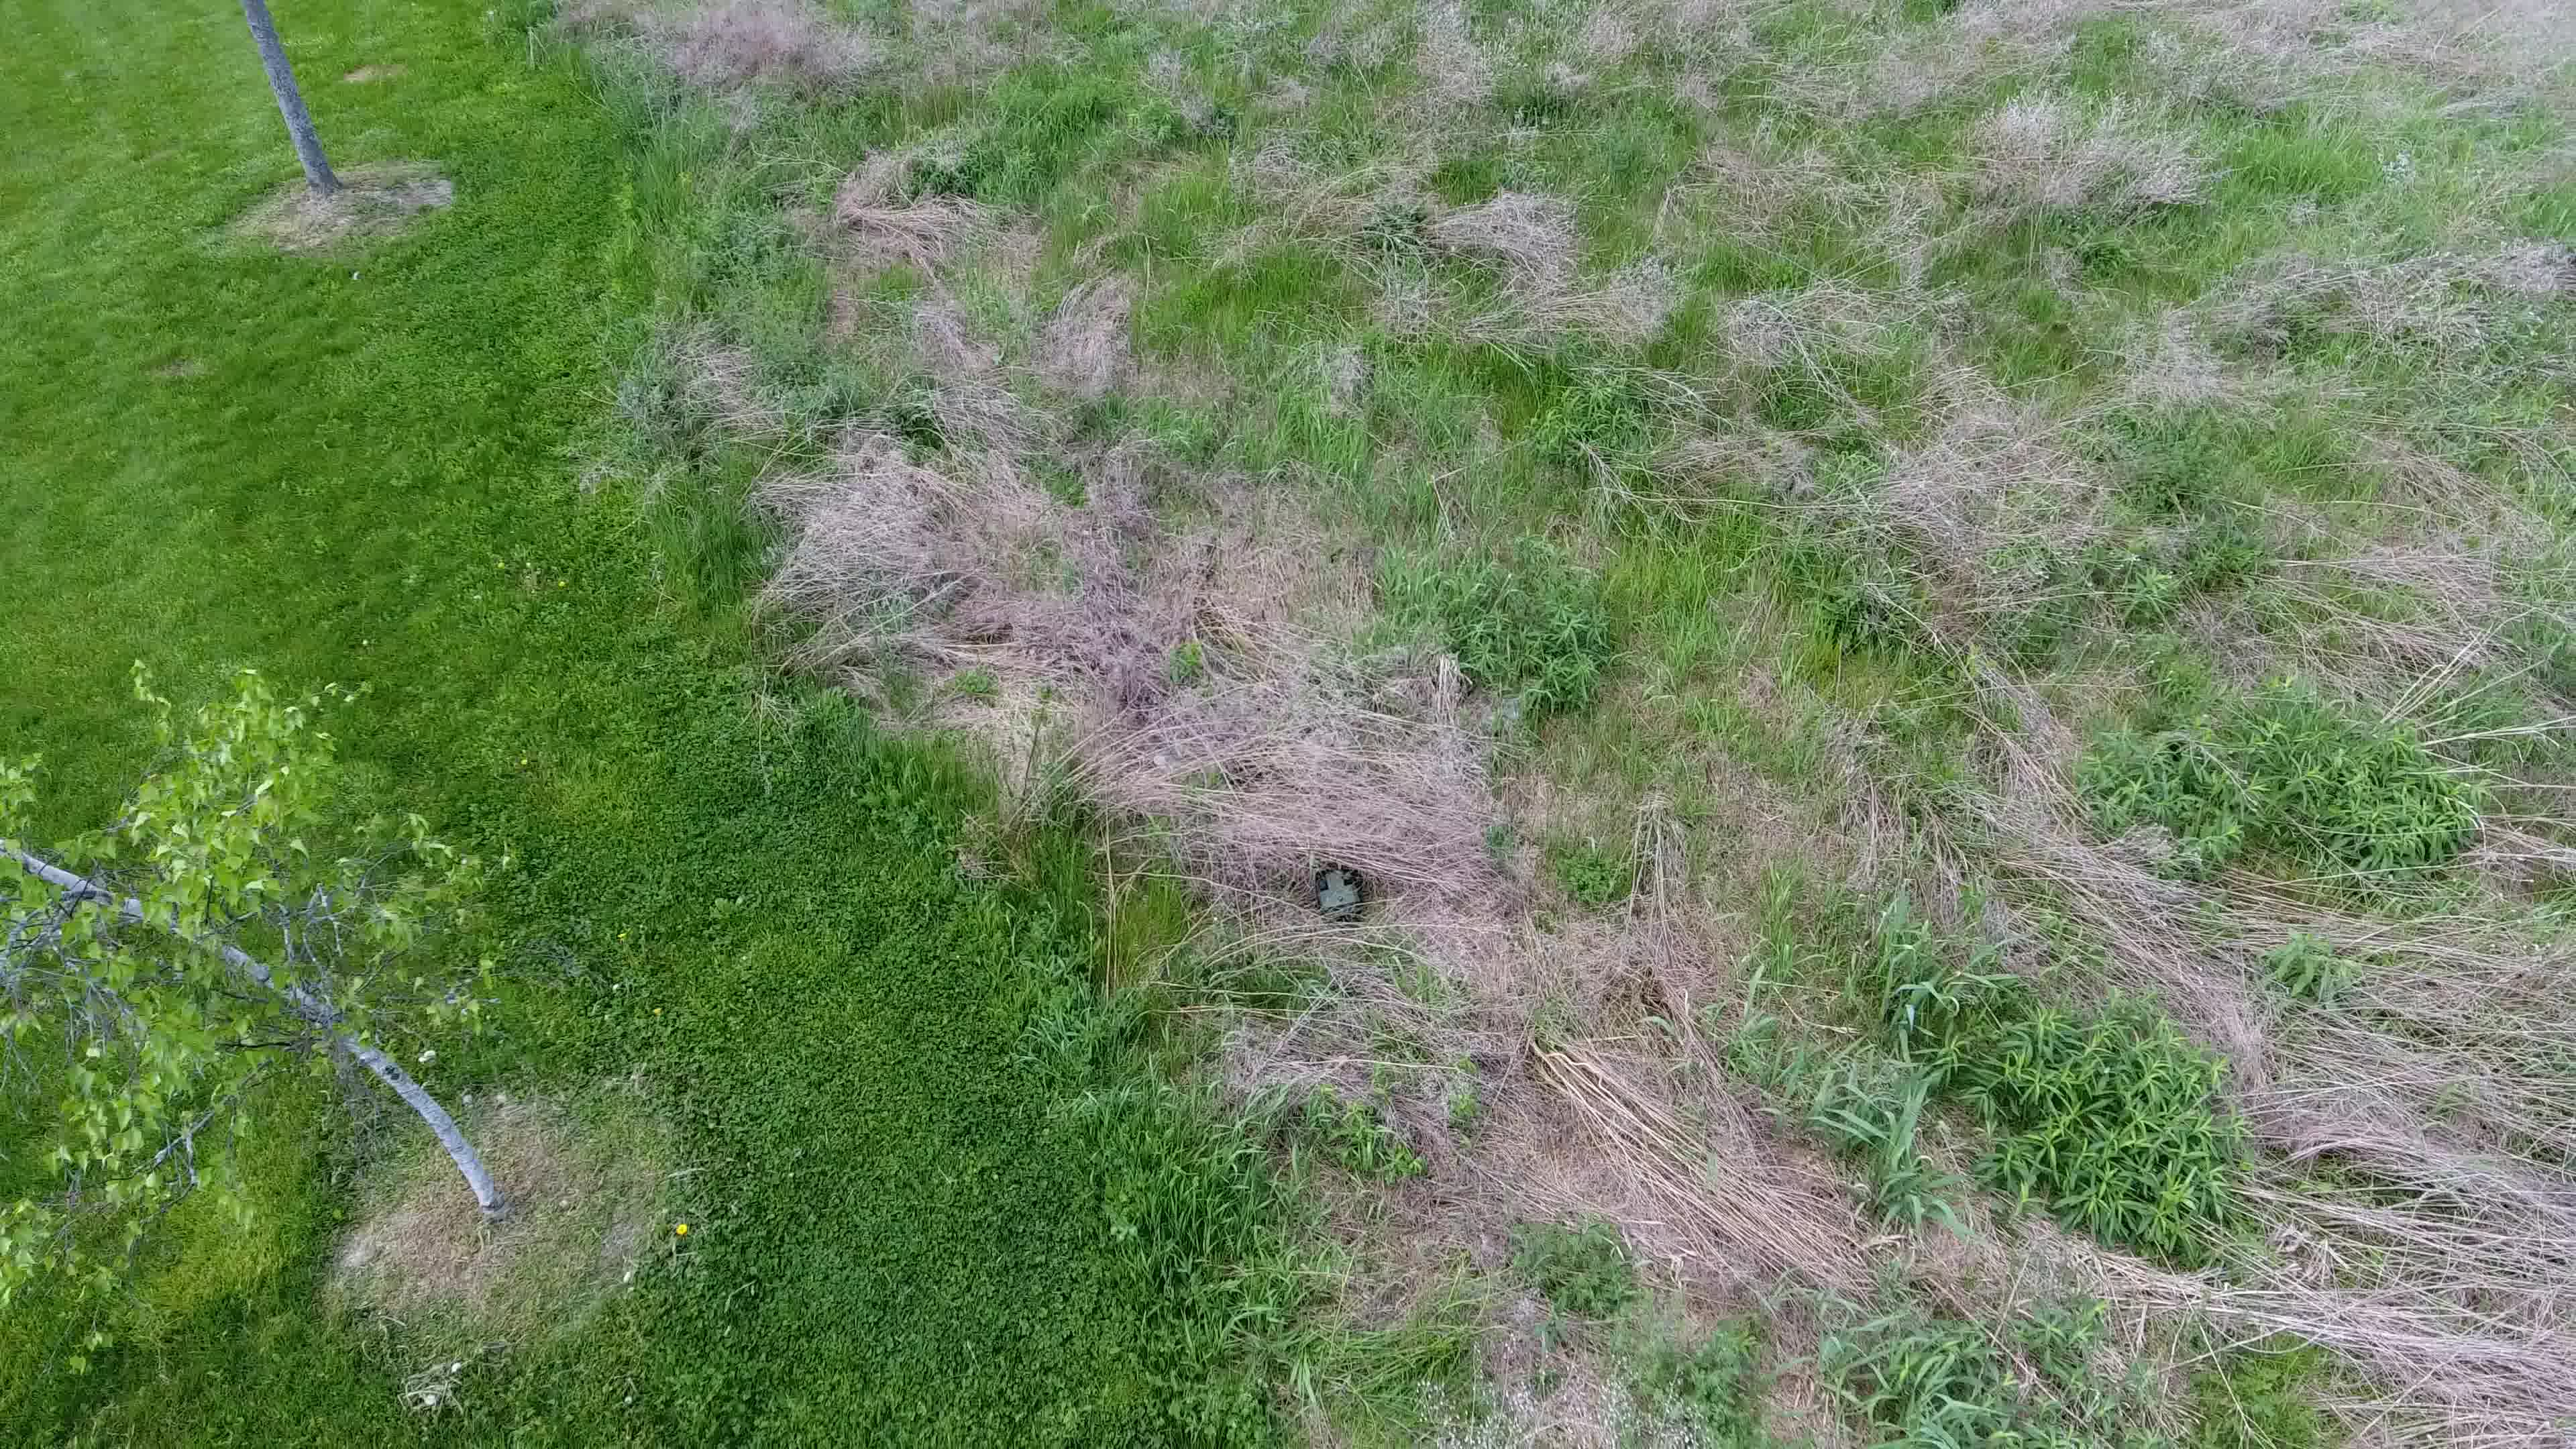transporter9: (1315, 867, 1366, 916)
